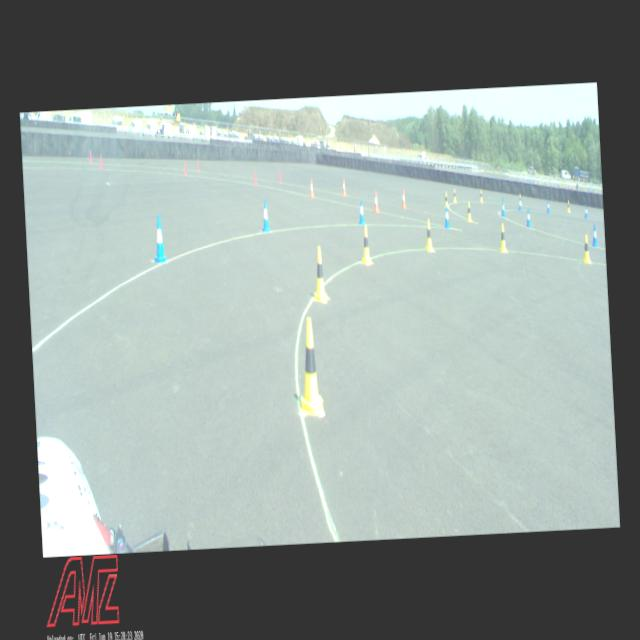blue_cone: (152, 215, 166, 263), (261, 200, 270, 232), (358, 198, 365, 226), (591, 224, 598, 247), (444, 206, 451, 228), (526, 208, 531, 228), (501, 202, 505, 216), (584, 205, 588, 218), (546, 201, 550, 213), (518, 198, 521, 211)
orange_cone: (372, 191, 380, 213), (401, 188, 407, 208), (309, 180, 314, 198), (342, 178, 346, 195)
unknown_cone: (278, 170, 282, 182), (89, 150, 92, 163), (184, 163, 187, 176), (197, 160, 200, 171), (100, 154, 102, 169), (254, 172, 256, 186)
yellow_cone: (296, 317, 324, 414), (311, 246, 328, 304), (360, 226, 372, 266), (424, 219, 433, 251), (582, 235, 591, 263), (498, 224, 506, 252), (466, 202, 472, 221), (444, 192, 449, 208), (452, 190, 457, 202), (479, 190, 483, 202), (568, 200, 570, 212), (520, 195, 522, 206)
